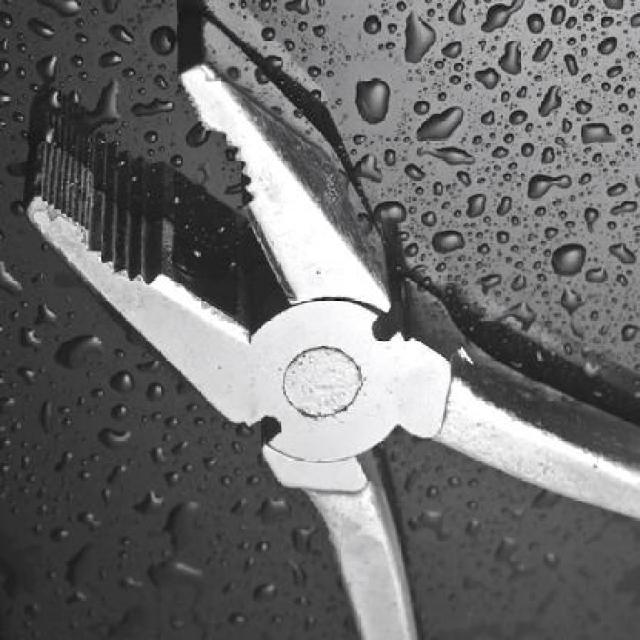pliers: (23, 14, 639, 638)
